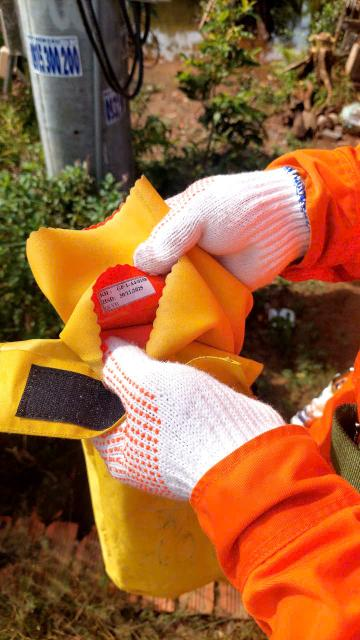gloves: (73, 316, 298, 512), (113, 144, 316, 308)
